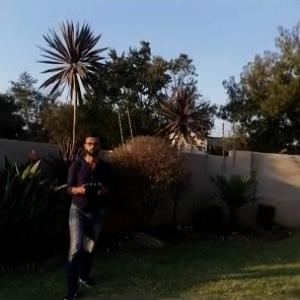follow: (59, 127, 110, 299)
